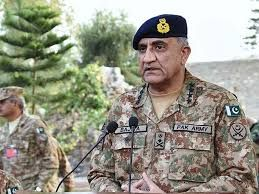uniform: (97, 66, 250, 190), (1, 115, 60, 191)
